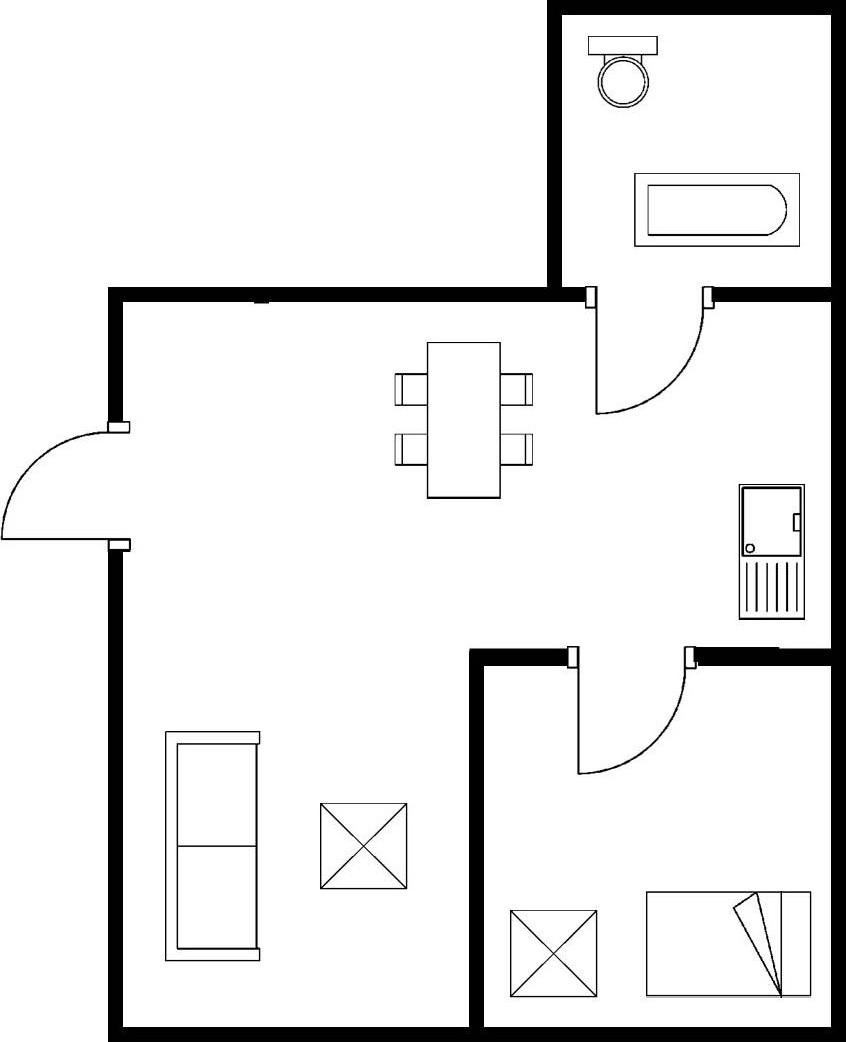bed: (638, 884, 816, 1002)
dining_table: (388, 336, 540, 505)
sink: (728, 478, 811, 624)
sofa: (157, 726, 268, 969)
toilet: (581, 29, 662, 112)
tub: (627, 166, 806, 253)
